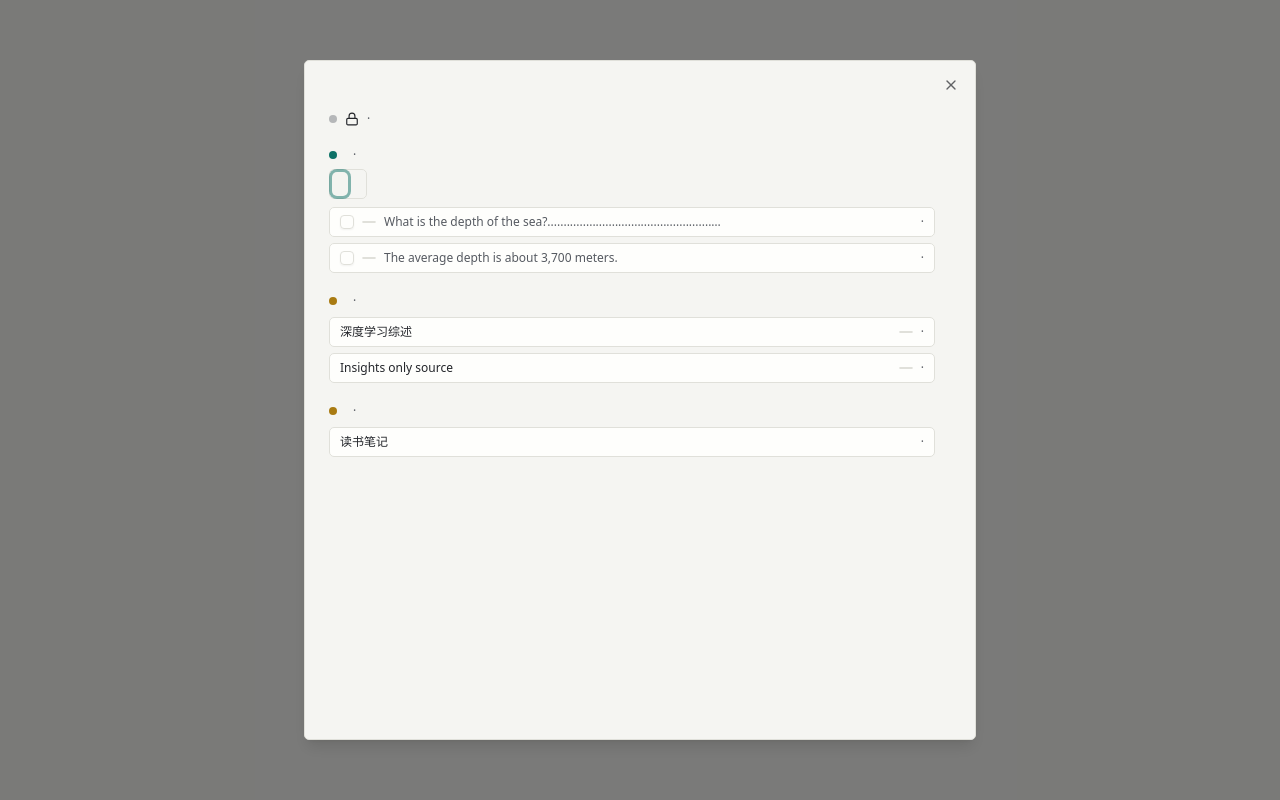
Test: ContextBreakdownDialog compress flow › needs at least two selected messages to compress
This screenshot has width=1280, height=800.
Click the checkbox with test id "breakdown-check-msg-1".
click(347, 222)  # box [340,215,354,229]
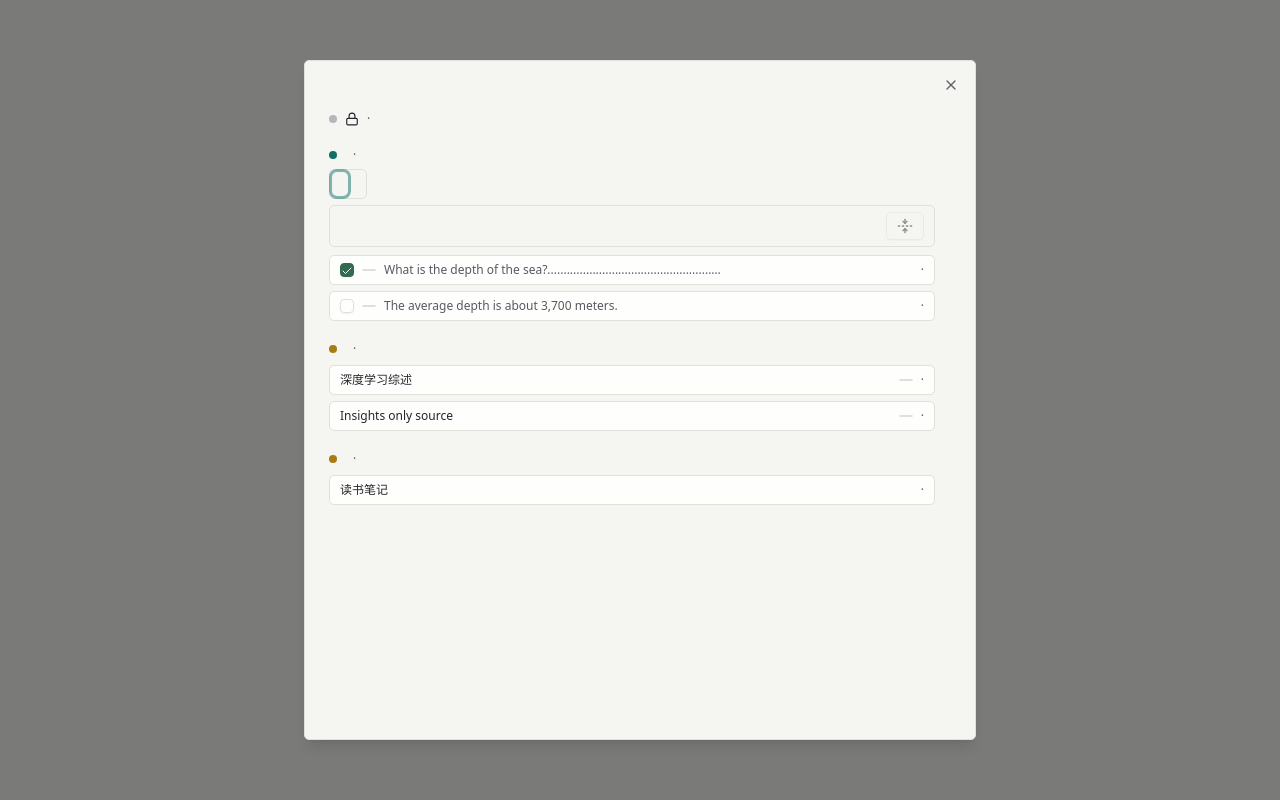
Expected: the button with test id "breakdown-compress-selected" is disabled, [886,212,924,240]
Click the checkbox with test id "breakdown-check-msg-2".
click(347, 306)  # box [340,299,354,313]
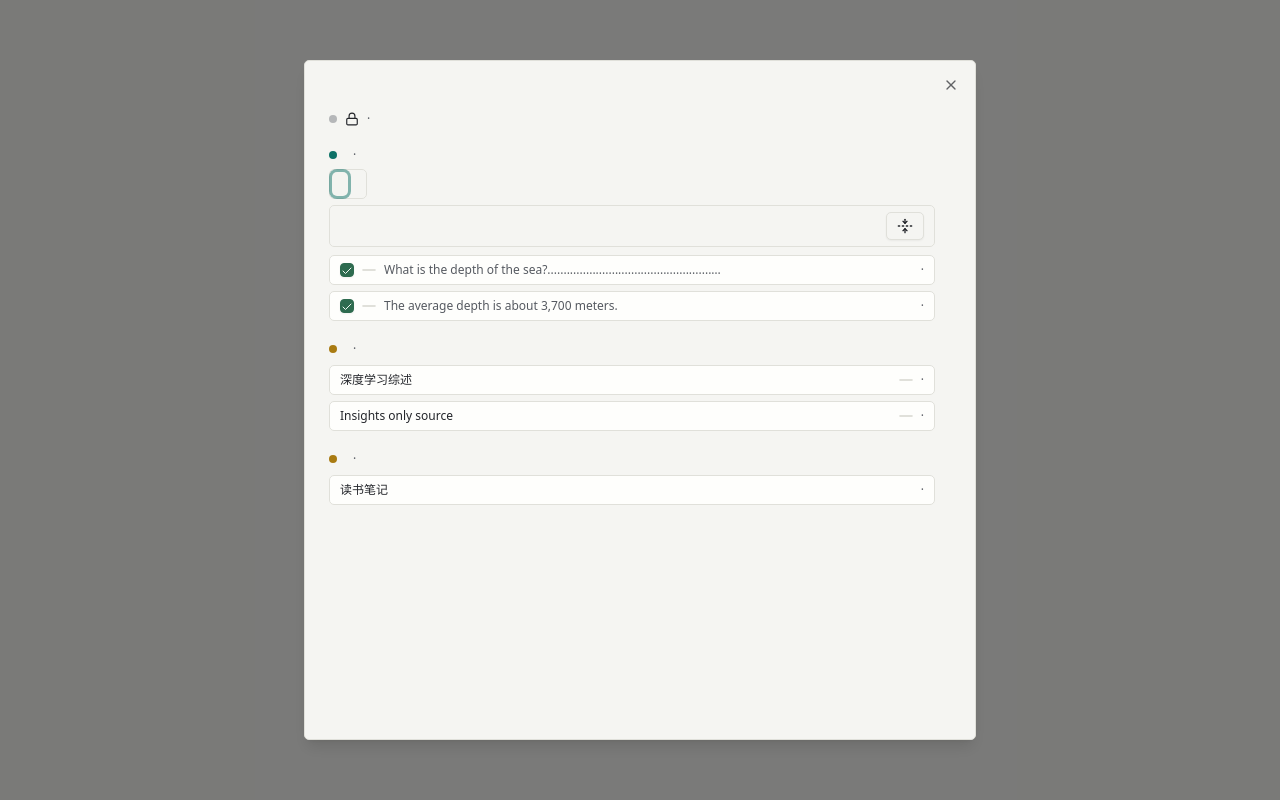
Expected: the button with test id "breakdown-compress-selected" is enabled, [886,212,924,240]
